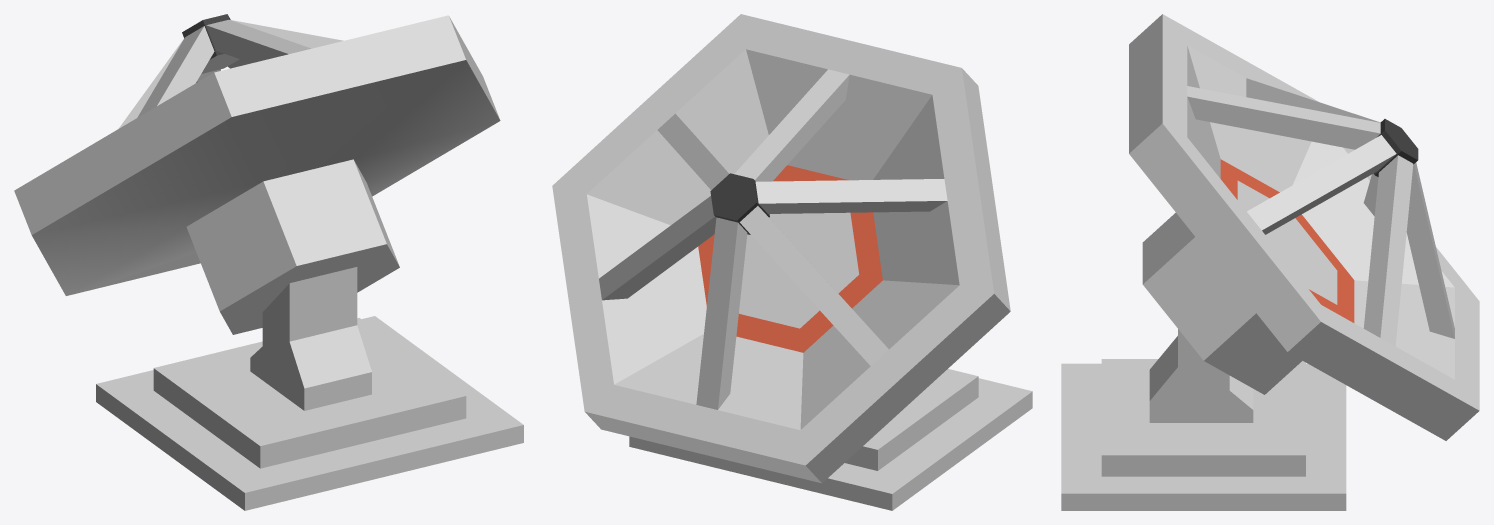
The model's file is satelliteDishLarge.glb.
3 views of the same model, side by side, from view 1: azimuth 30°, elevation 25°; view 2: azimuth 150°, elevation 25°; view 3: azimuth 270°, elevation 25° (orthographic). The views are drawn at different scales.
Visible parts, largest first — view 1: satelliteDishLarge; view 2: satelliteDishLarge; view 3: satelliteDishLarge.
Part boxes in pixels (box(x1,y1,x2,y2)): satelliteDishLarge: box(14, 14, 523, 510); satelliteDishLarge: box(552, 14, 1032, 510); satelliteDishLarge: box(1061, 14, 1479, 510).
Bounding box in the file's own units: 10.92 × 8.77 × 8.82.
